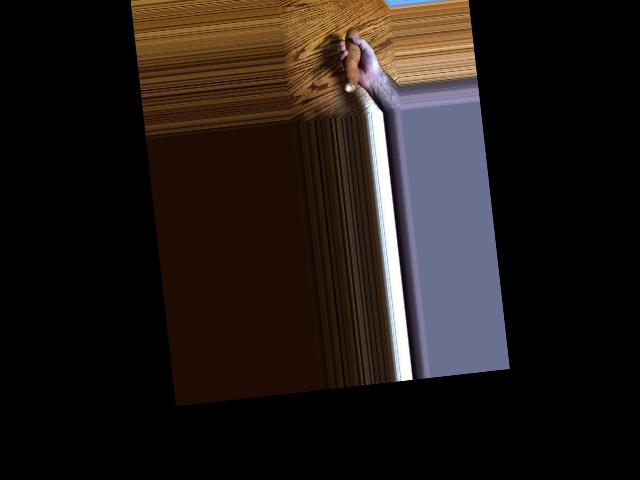sweet_potato: (339, 22, 368, 94)
